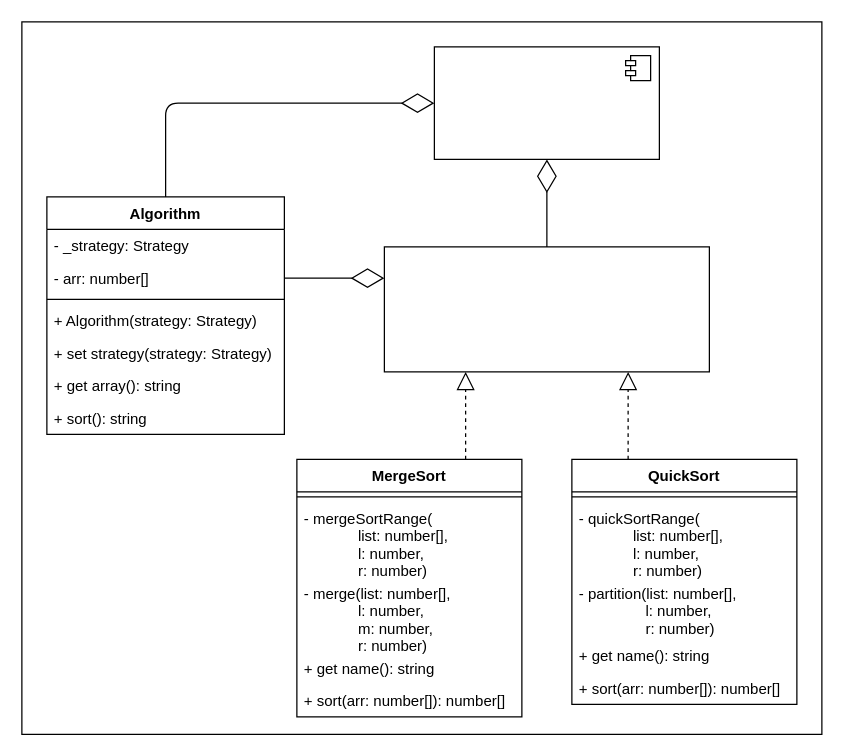
This 844x756 diagram has some shape labels left out. The shapes that lost their labels are listed below. From the top down, each one's centre as x and y in pixels, then its label:
At point 546,102: "Strategy.component".
At point 546,309: "<<Interface>> Strategy + name: string + sort(arr: Number[]): number[]".
